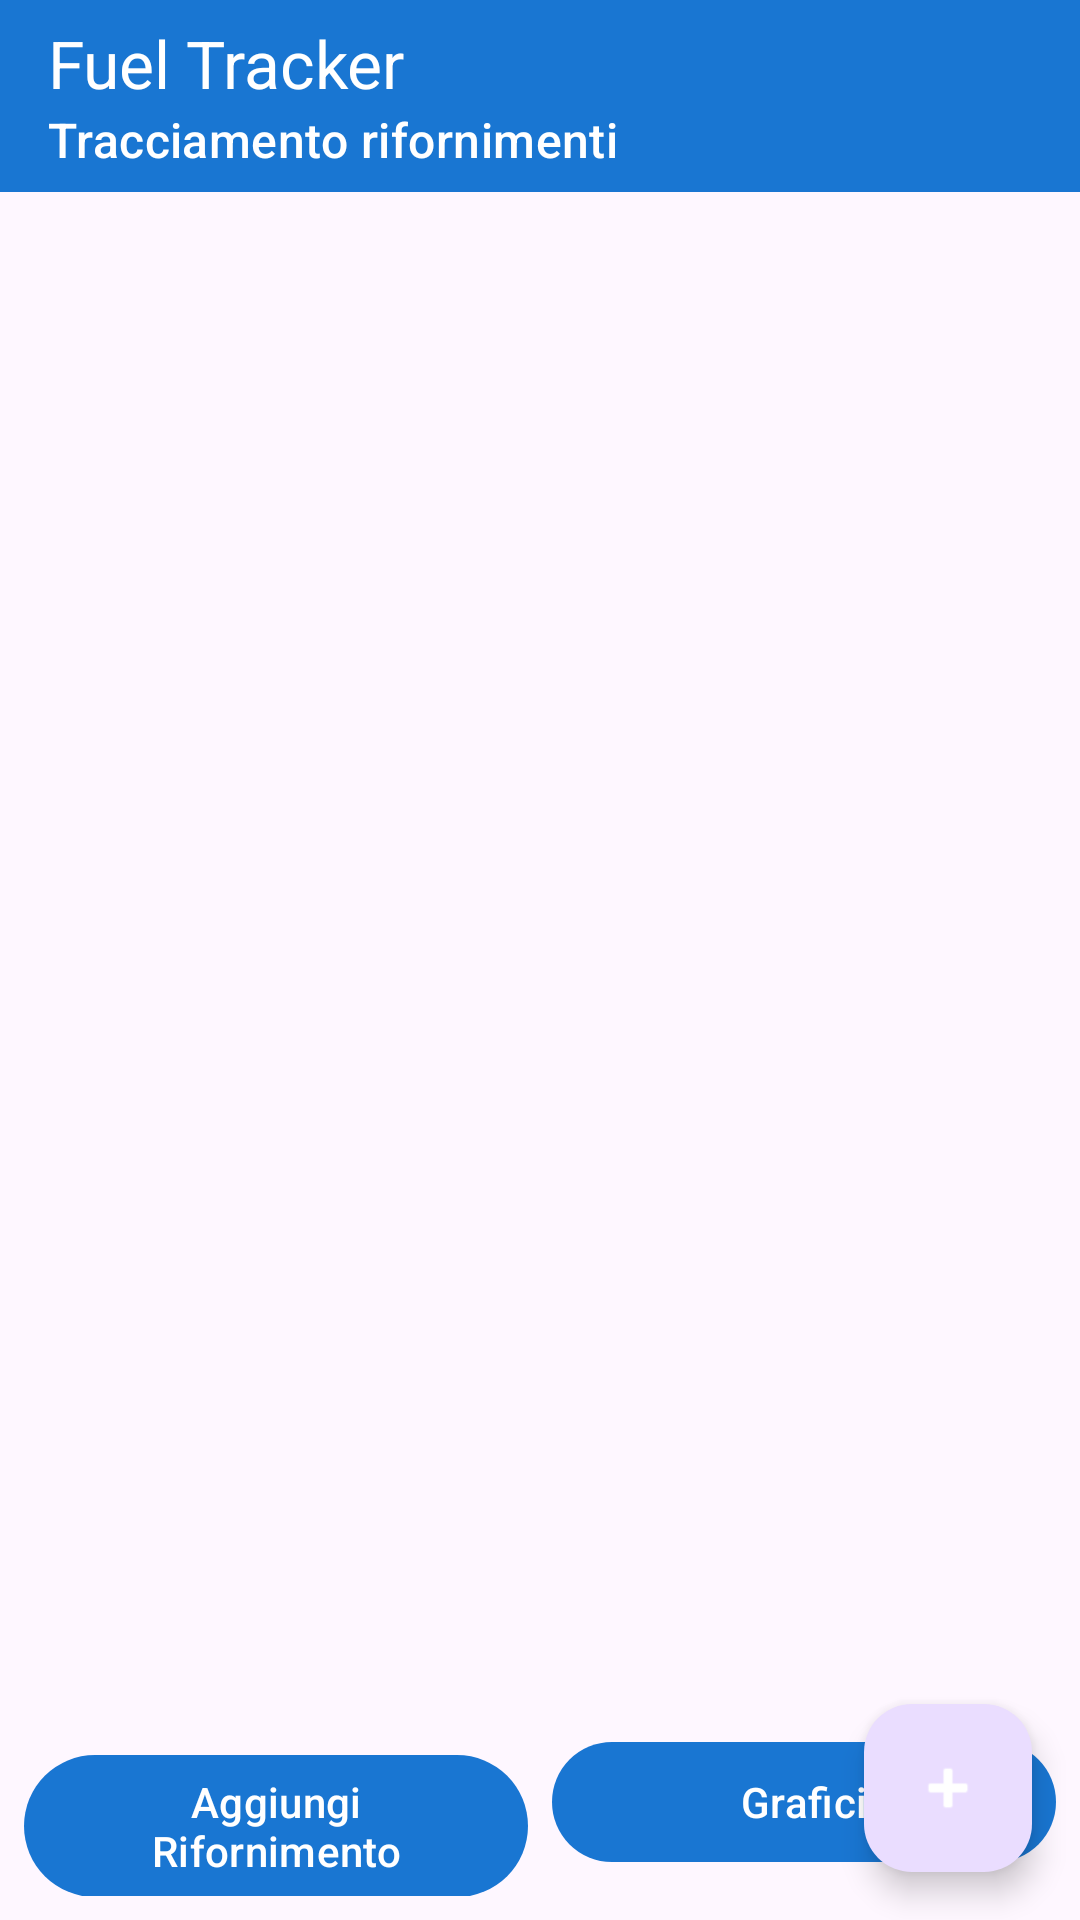

Icon click points for this 1080×1920 phone screenshot, format (x=x, y=y):
Aggiungi veicolo: (x=948, y=1788)
